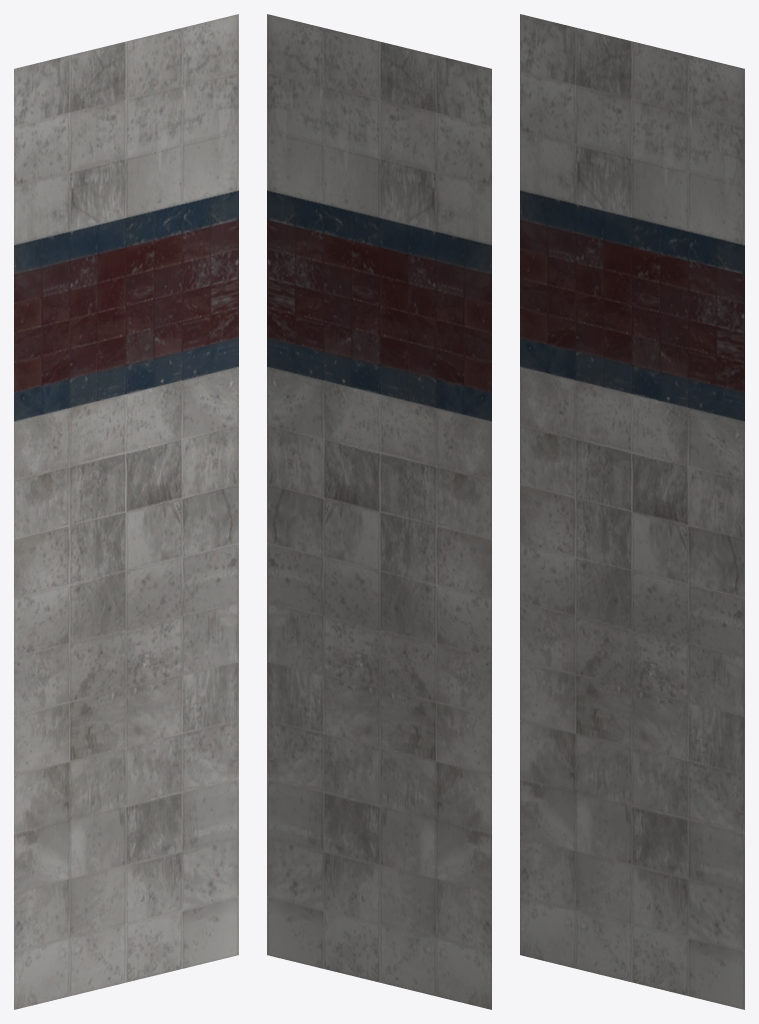
The model's file is SM_Wall_50u.glb.
3 views of the same model, side by side, from view 1: azimuth 30°, elevation 25°; view 2: azimuth 150°, elevation 25°; view 3: azimuth 330°, elevation 25° (orthographic).
Parts seen in each view (by area): view 1: SM_Wall_50u; view 2: SM_Wall_50u; view 3: SM_Wall_50u.
Part boxes in pixels (x1,y1,x2,y2): SM_Wall_50u: (14,14,238,1009); SM_Wall_50u: (267,14,491,1009); SM_Wall_50u: (520,14,744,1009).
Bounding box in the file's own units: 0.65 × 2.6 × 1.59e-16.
Materials: 1 (1 with a texture image).
